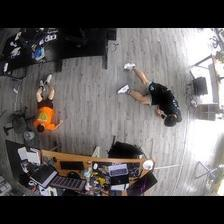fall: (115, 62, 180, 124), (32, 74, 64, 132)
